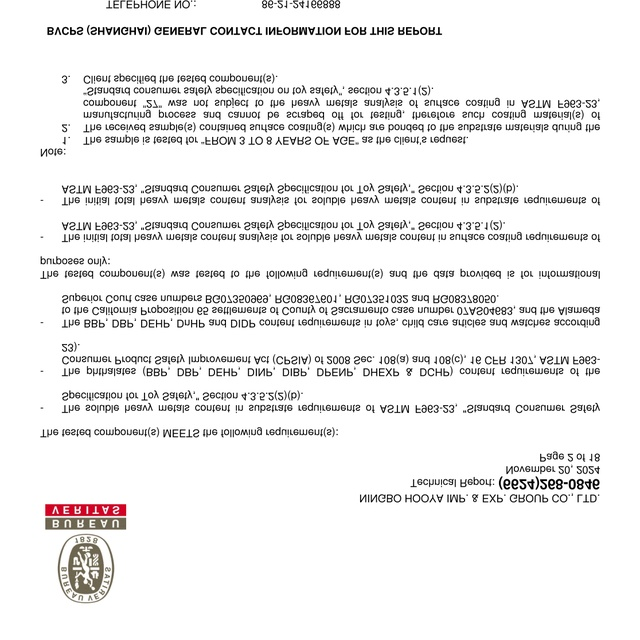bureau_veritas: (38, 498, 129, 608)
